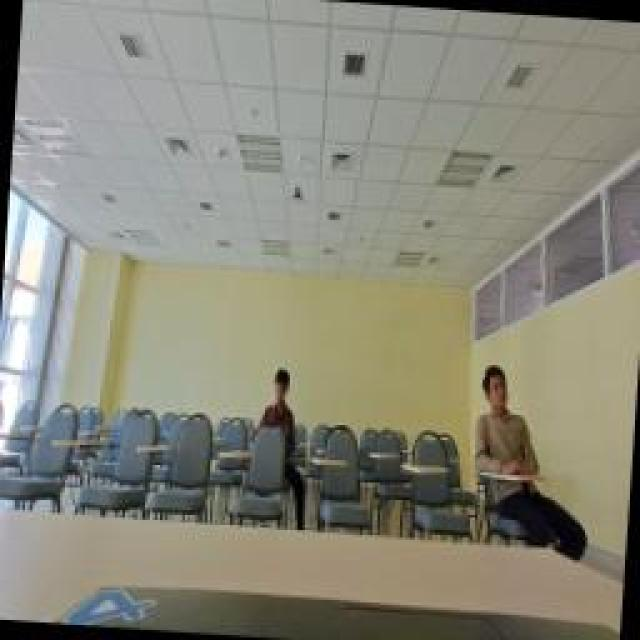study: (470, 362, 545, 480), (258, 365, 300, 435)
